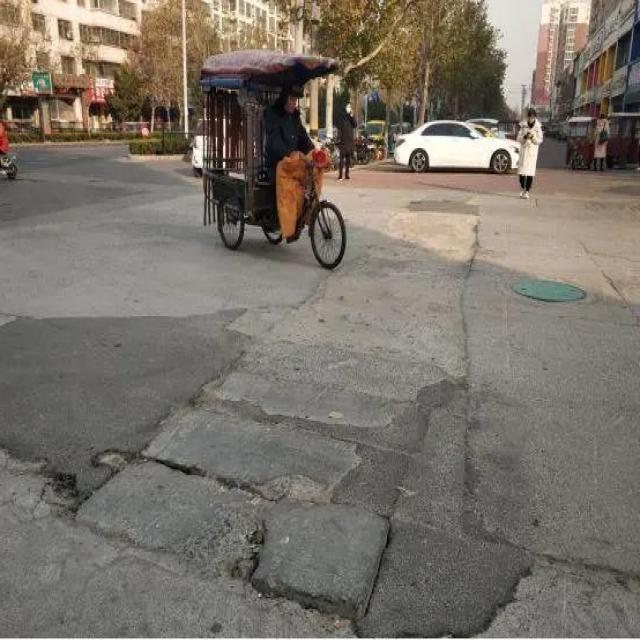pothole: (1, 450, 395, 625)
